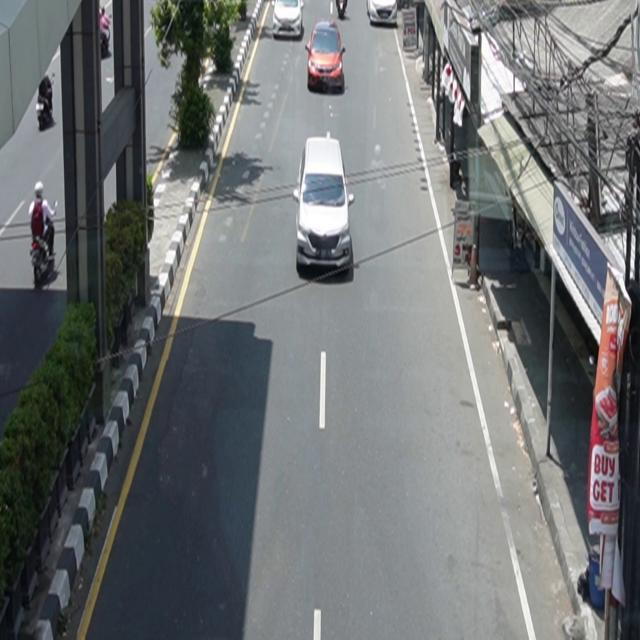car: (294, 132, 355, 277), (306, 19, 346, 94), (273, 1, 305, 40), (367, 1, 399, 26)
